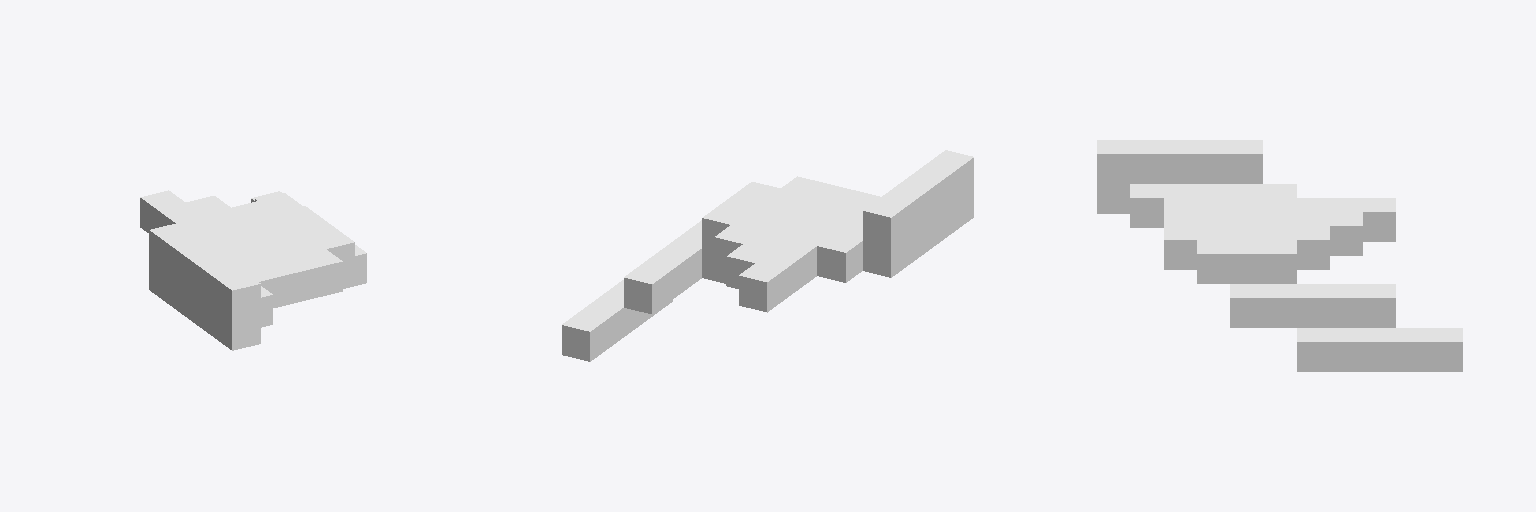
The model's file is Extra-6-RedFighter_FrontWing_L.obj.
The picture shows the model from 3 angles: view 1: azimuth 30°, elevation 25°; view 2: azimuth 150°, elevation 25°; view 3: azimuth 270°, elevation 25°; orthographic projection.
Visible parts, largest first — view 1: RedFighter_FrontWing_L; view 2: RedFighter_FrontWing_L; view 3: RedFighter_FrontWing_L.
Boxes of the visible parts, x1=… form: RedFighter_FrontWing_L: x1=140, y1=190, x2=366, y2=350; RedFighter_FrontWing_L: x1=562, y1=150, x2=973, y2=361; RedFighter_FrontWing_L: x1=1097, y1=140, x2=1462, y2=371.
Size of the model in its own units: 0.8 by 0.4 by 1.1.